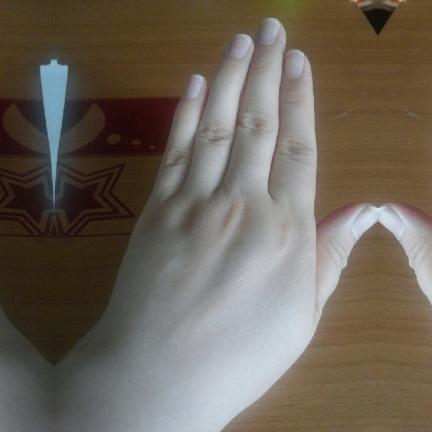Nail: (353, 205, 378, 239), (378, 205, 403, 239), (282, 49, 305, 82), (228, 33, 252, 61), (258, 17, 281, 44), (184, 74, 201, 101)
